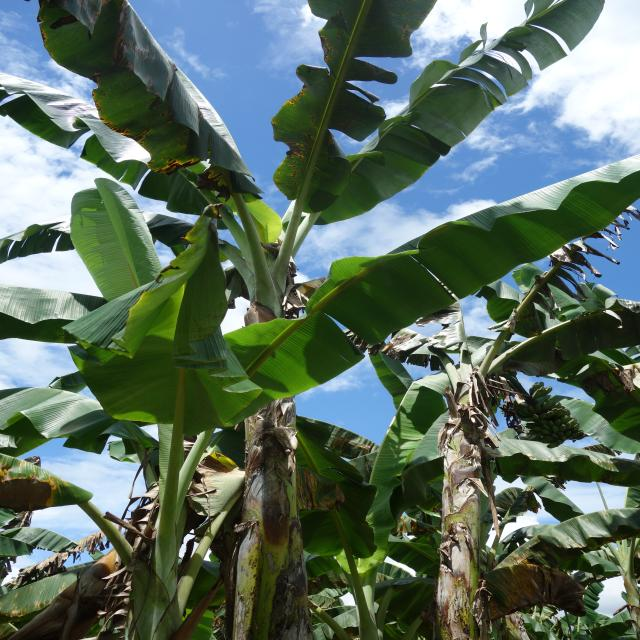Banana-plant: (206, 208, 341, 640), (408, 375, 518, 640)
